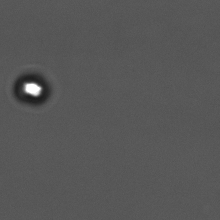Living Cell: (13, 71, 52, 105)
